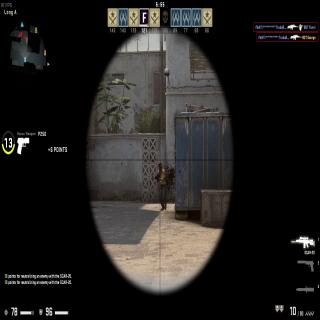CT-Body: (158, 161, 166, 211)
CT-Head: (158, 162, 162, 170)
